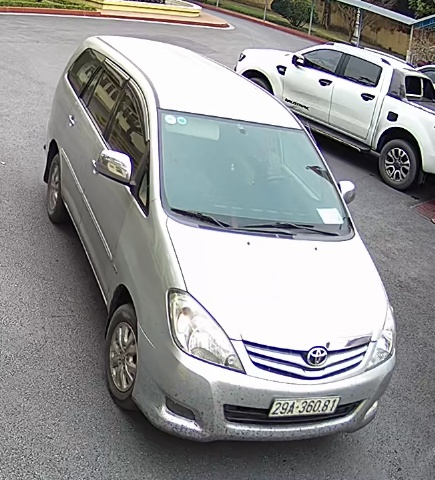vehicle plate: (262, 394, 346, 418)
